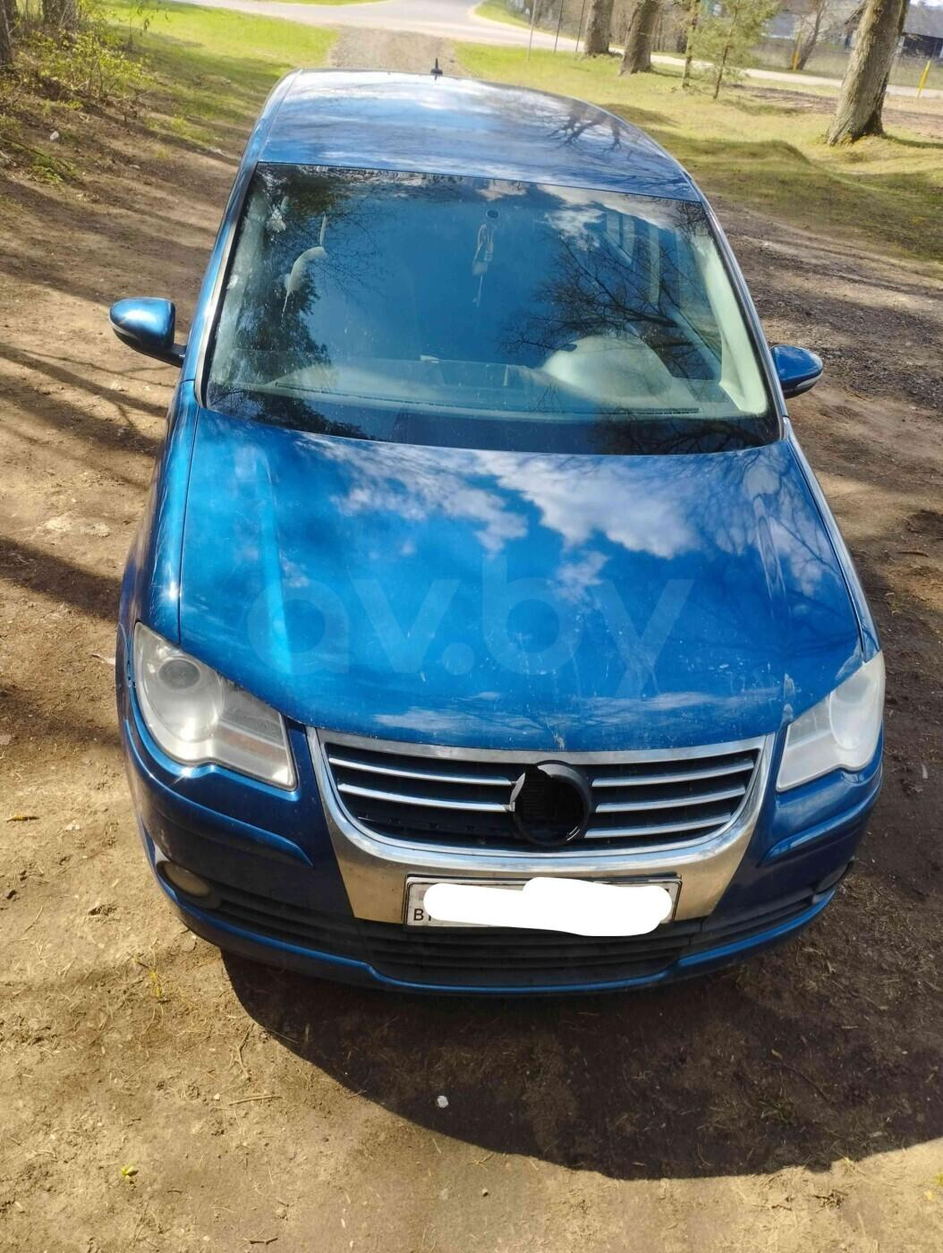Touran_2006-2010: (107, 70, 870, 1008)
